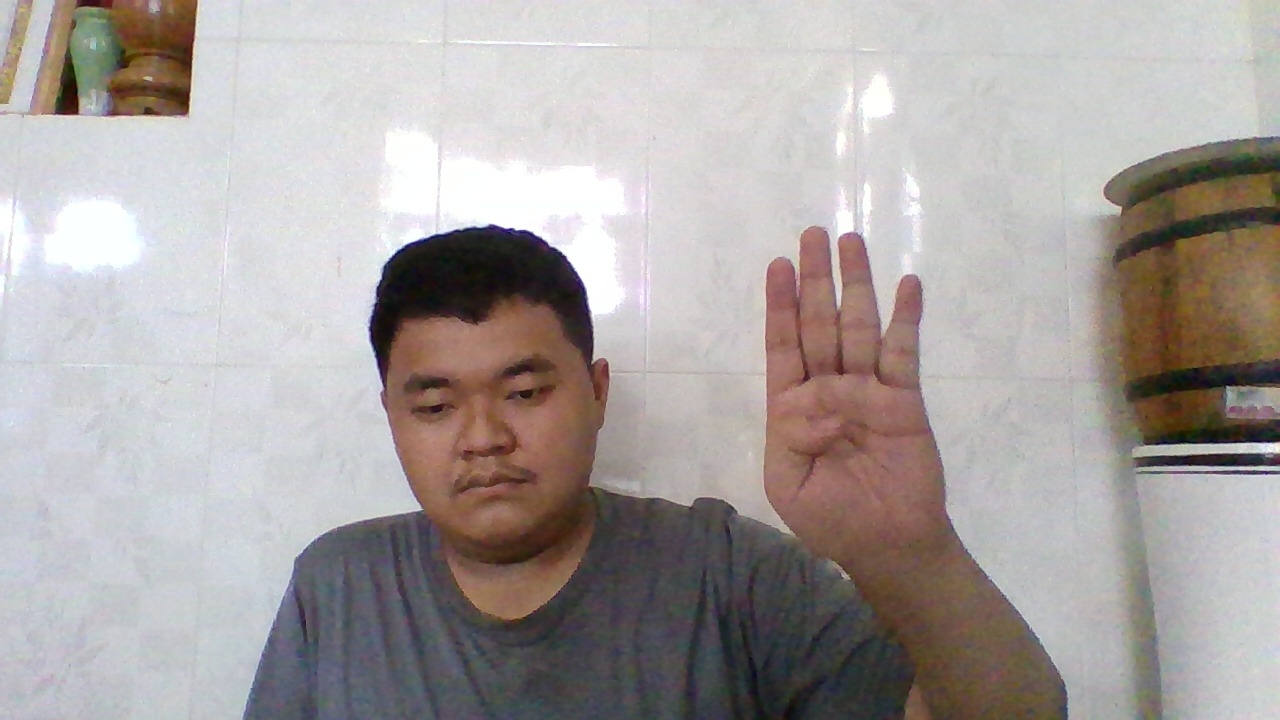B: (761, 218, 930, 568)
